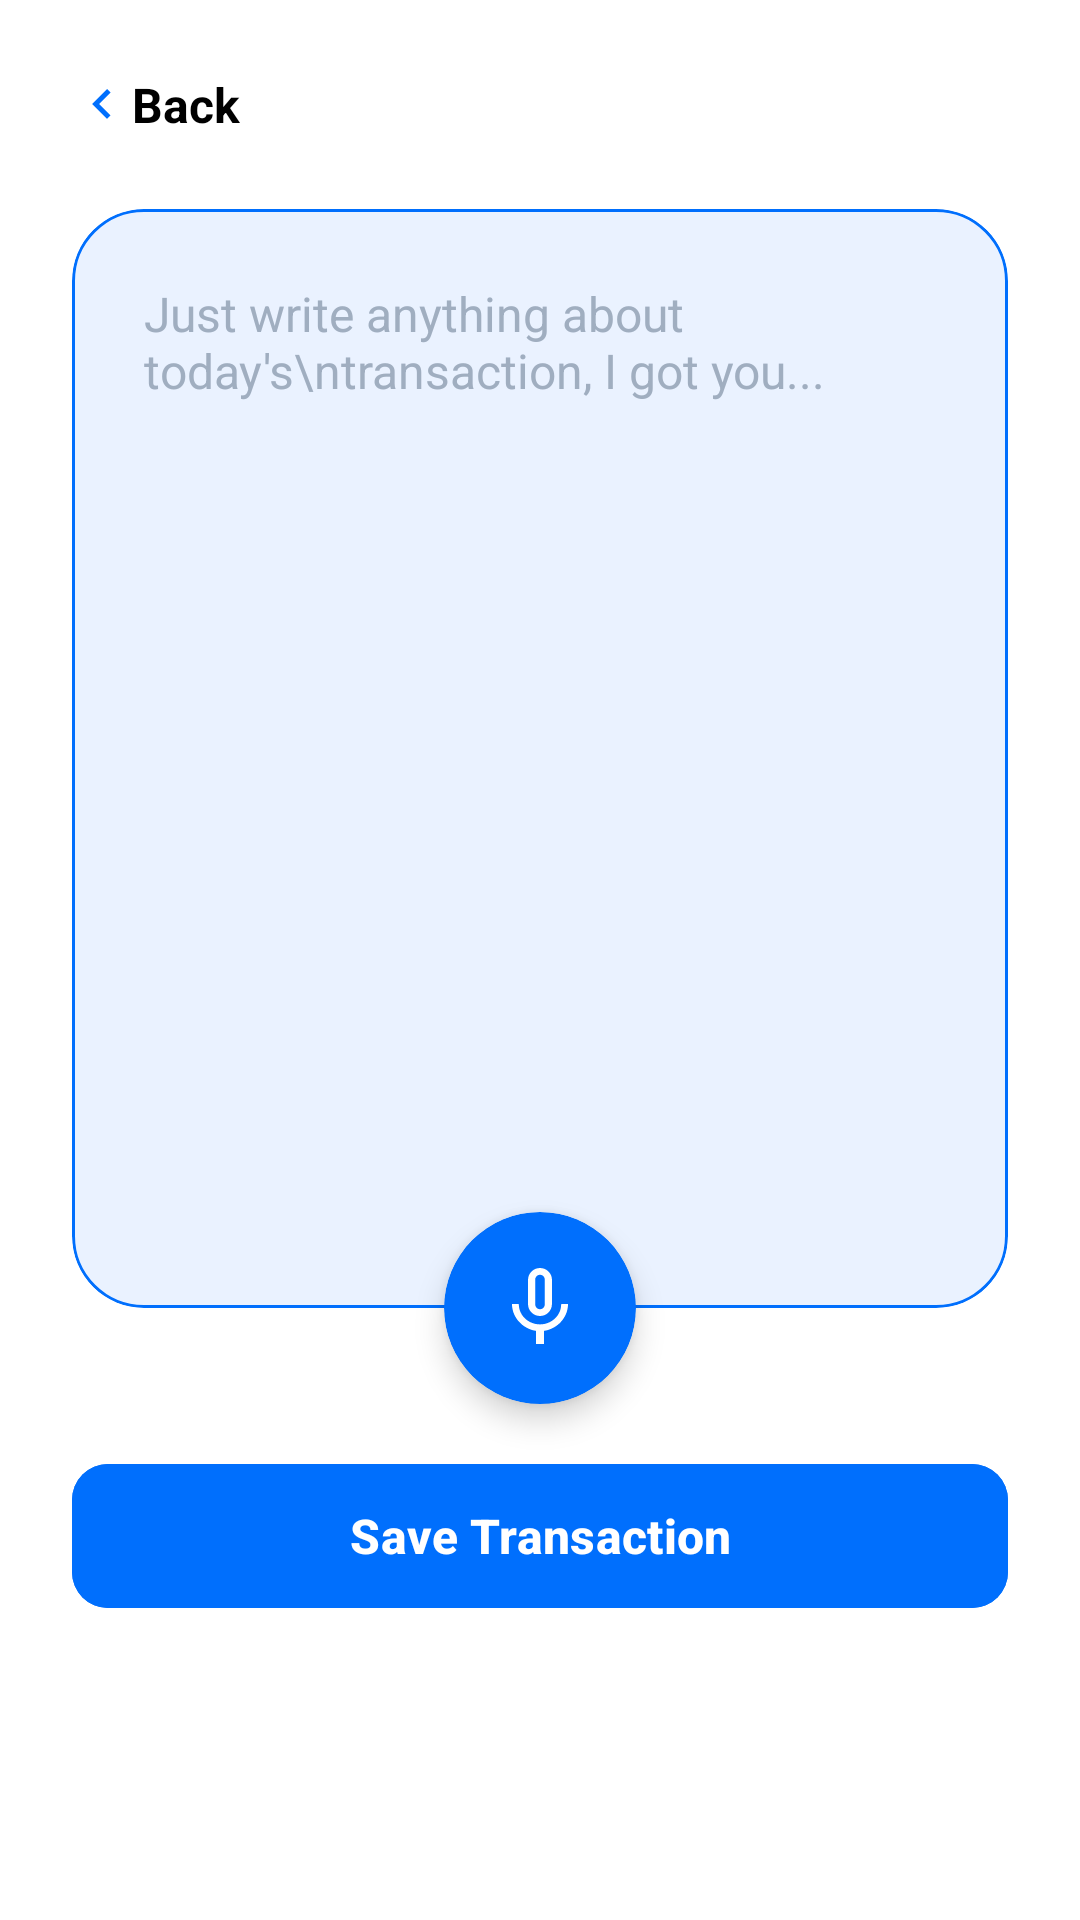

Named icons in this screenshot (1080 × 1920) and their bounding boxes, (x1, y1, x2, y2):
chevron left: (92, 89, 111, 119)
microphone: (512, 1268, 568, 1344)
